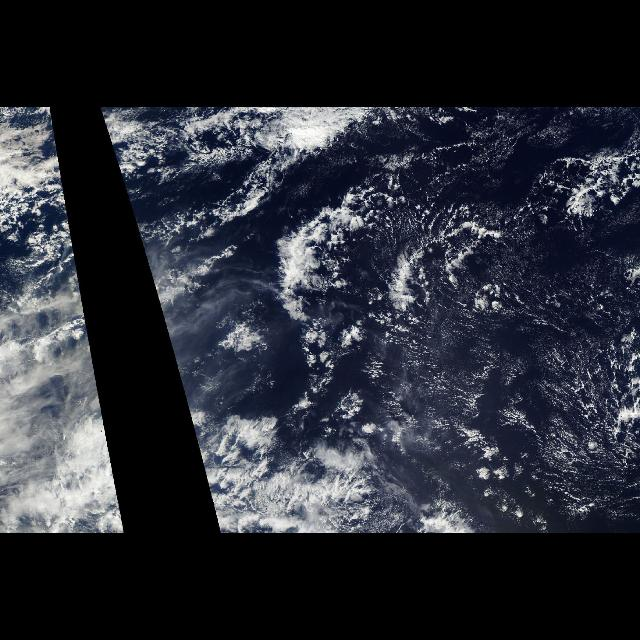Gravel: (513, 255, 623, 425)
Sugar: (416, 224, 640, 522)
